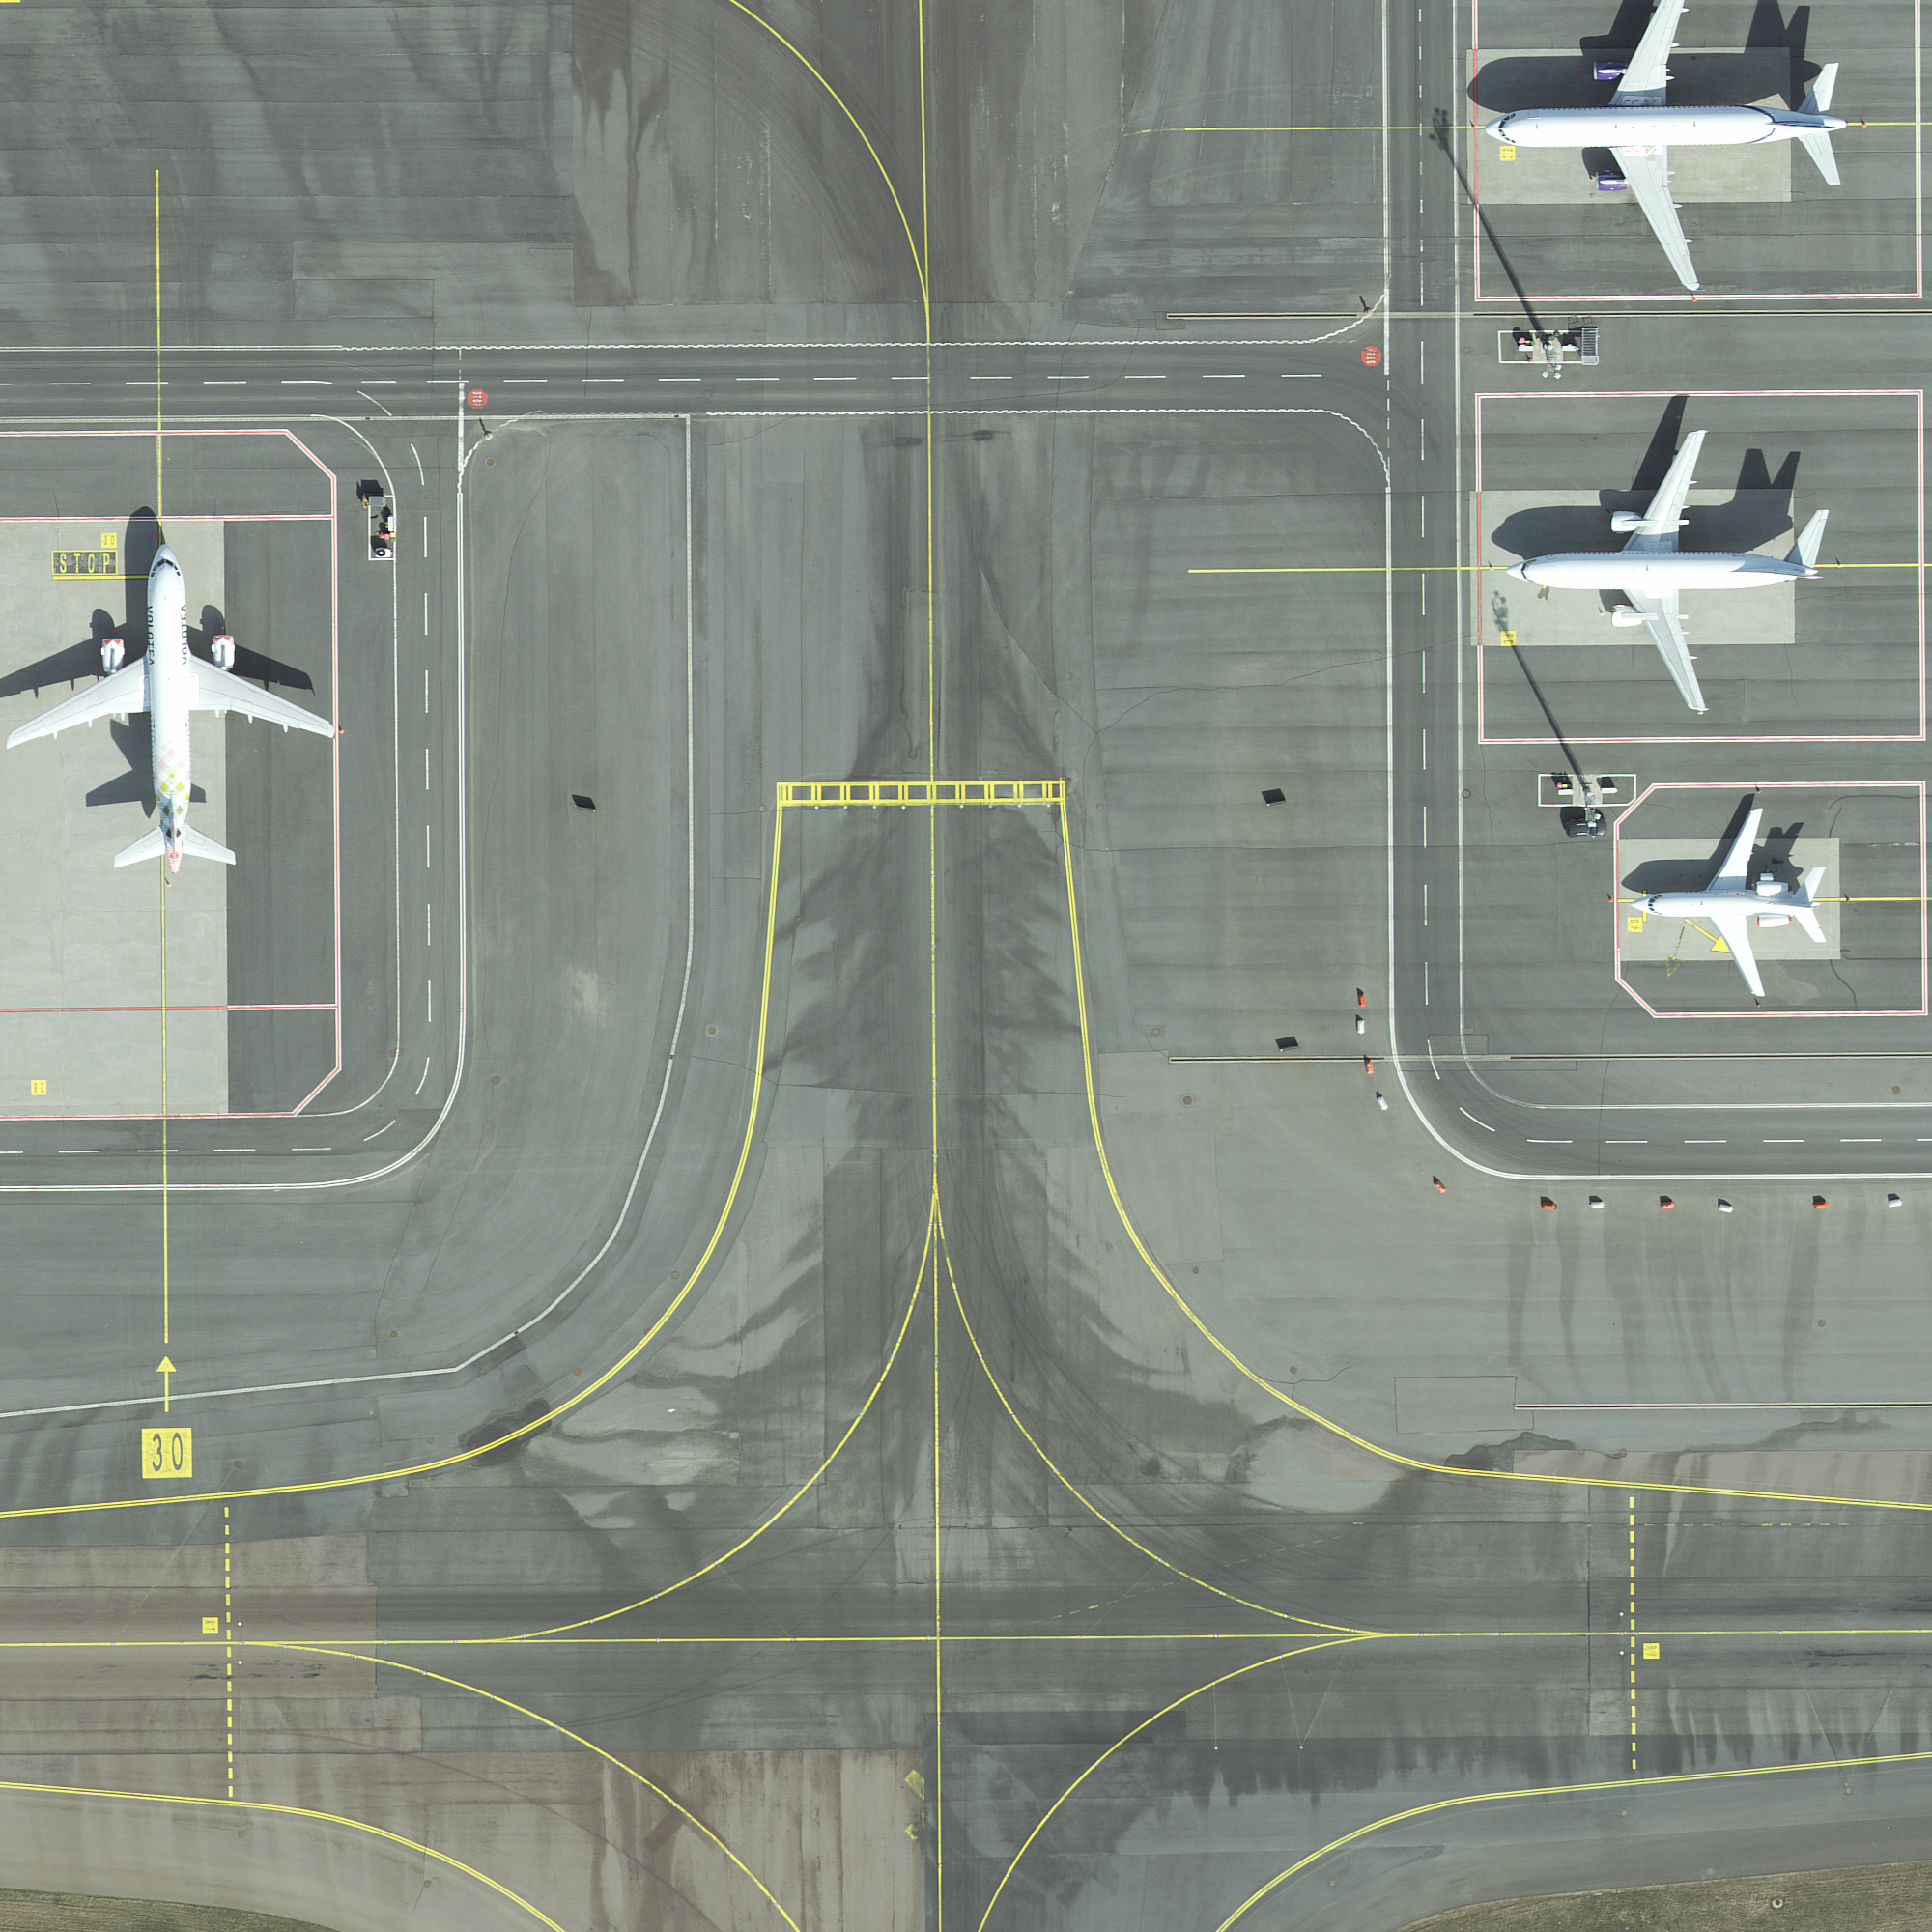Airplane: (2, 538, 340, 869), (1483, 2, 1849, 290), (1504, 428, 1828, 711), (1629, 807, 1826, 996)
